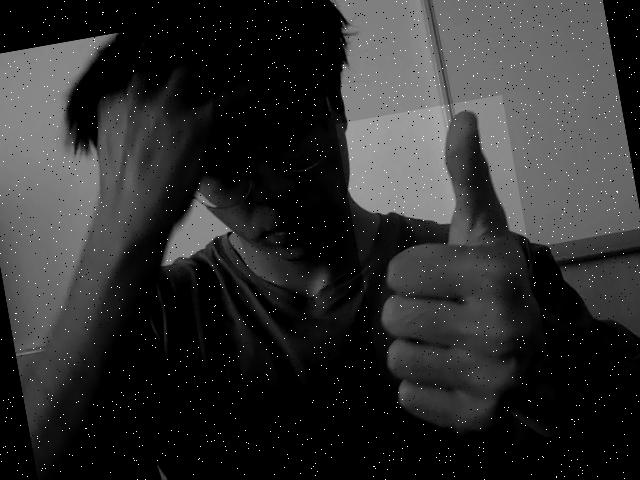good: (368, 101, 538, 447)
